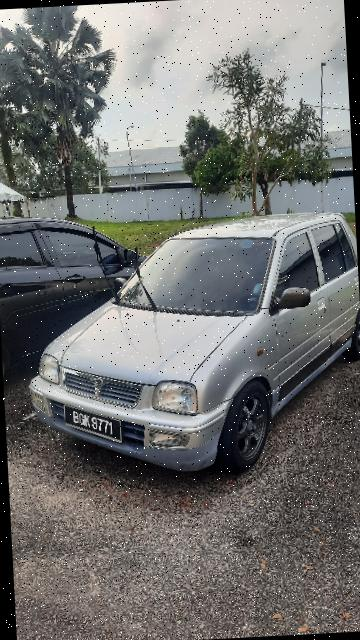License_Plate: (64, 400, 128, 452)
car: (19, 205, 360, 489), (1, 206, 165, 380)
